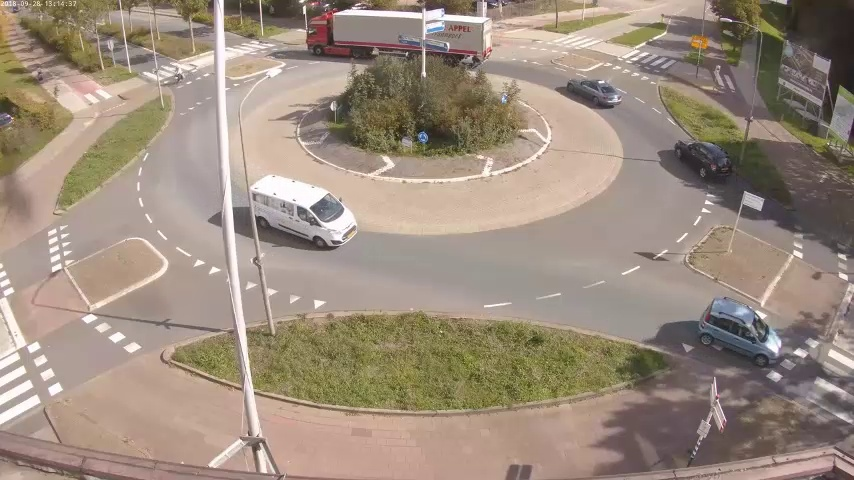car: (698, 295, 780, 366), (673, 140, 727, 177), (570, 75, 620, 107)
truck: (304, 10, 491, 66)
van: (250, 175, 355, 253)
